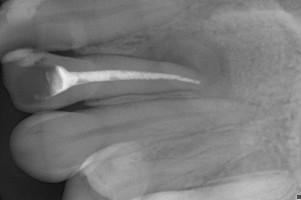Furcation Involvement: (132, 31, 232, 86)
